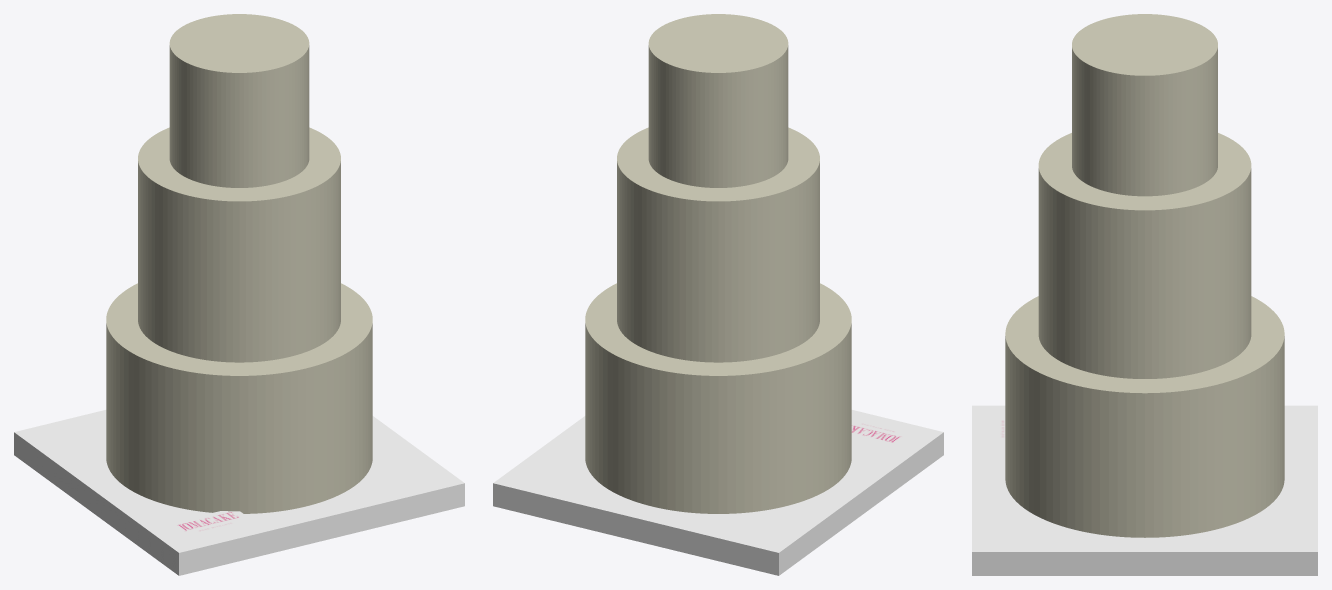
Rendered from cake_tier3_8-6-4_layers3_v42.glb.
The picture shows the model from 3 angles, left to right: view 1: azimuth 30°, elevation 25°; view 2: azimuth 150°, elevation 25°; view 3: azimuth 270°, elevation 25°; orthographic projection. The views are drawn at different scales.
Parts seen in each view (by area): view 1: Tier0, Tier1, Board, Tier2, Logo; view 2: Tier0, Tier1, Board, Tier2, Logo; view 3: Tier0, Tier1, Board, Tier2, Logo.
Part boxes in pixels (x1,y1,x2,y2): Tier0: (106,283,372,513); Tier1: (138,127,340,362); Board: (14,410,464,575); Tier2: (169,14,309,187); Logo: (166,511,254,538); Tier0: (585,283,851,513); Tier1: (617,127,819,362); Board: (493,410,943,575); Tier2: (648,14,788,187); Logo: (851,417,916,447); Tier0: (1005,296,1284,537); Tier1: (1038,133,1251,378); Board: (972,405,1317,575); Tier2: (1072,14,1217,196); Logo: (993,411,1005,446).
Bounding box in the file's own units: 0.26 × 0.38 × 0.26.
